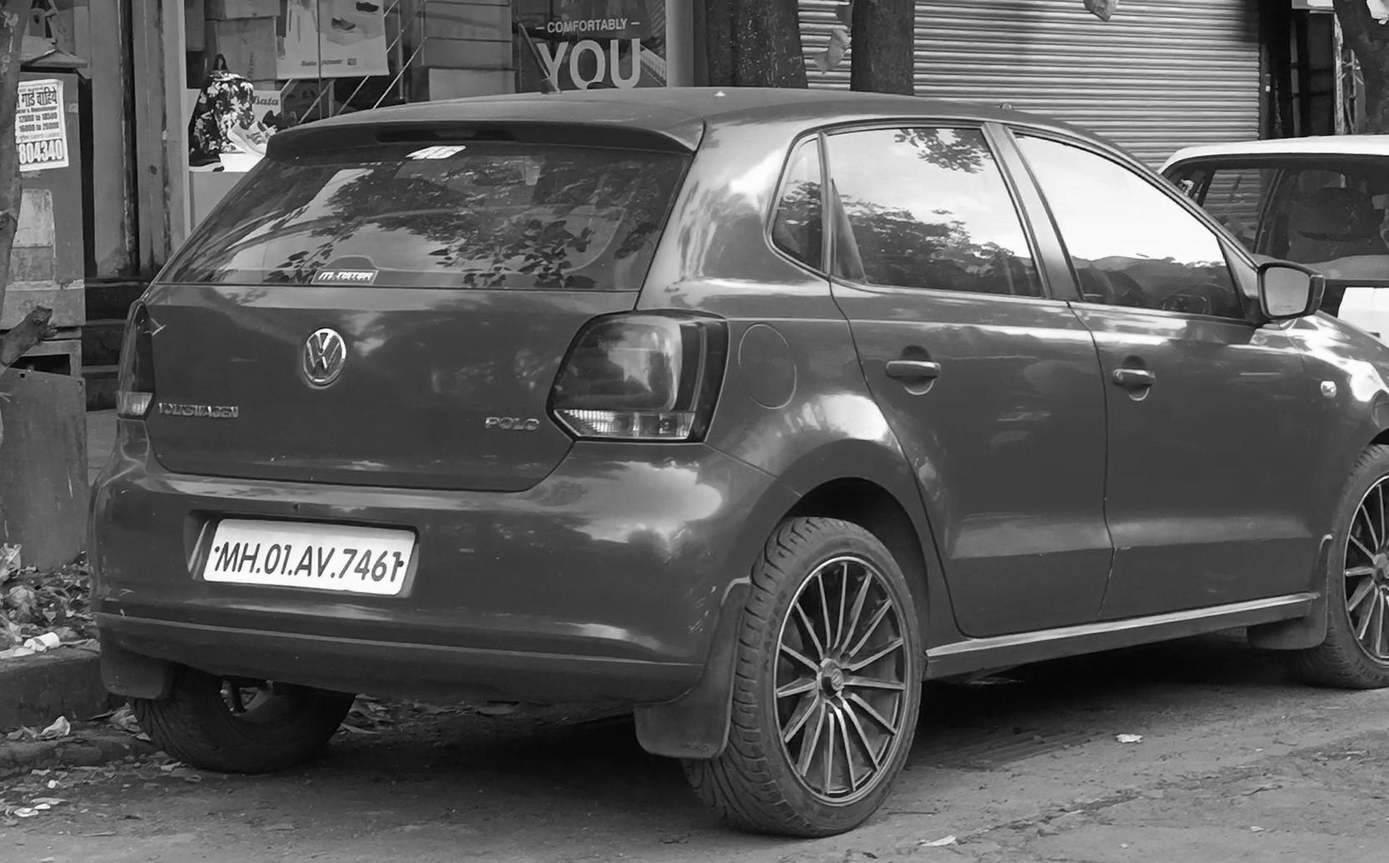number_plate: (207, 519, 411, 597)
